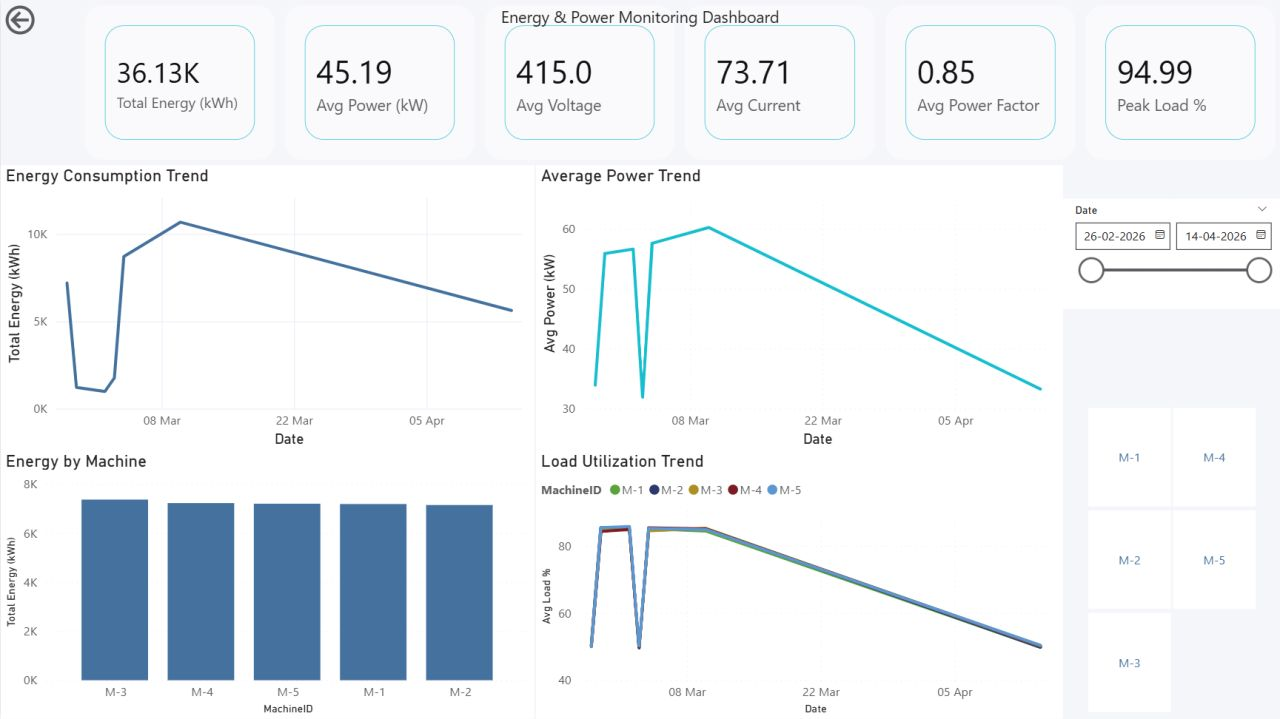

What the dashboard file says about the page in this screenshot:
{"tool":"powerbi","page":{"name":"Energy & Power Monitoring","canvas":[1280,720],"ordinal":0},"visuals":[{"type":"cardVisual","fields":{"Data":["_Measures.Total Energy (kWh)"]},"box":[78.8,0,200,165],"z":0},{"type":"cardVisual","fields":{"Data":["_Measures.Avg Power (kW)"]},"box":[278.8,0,200,165],"z":1000},{"type":"cardVisual","fields":{"Data":["_Measures.Avg Power Factor"]},"box":[880,0,200,165],"z":2000},{"type":"cardVisual","fields":{"Data":["_Measures.Avg Voltage"]},"box":[478.8,0,200,165],"z":3000},{"type":"cardVisual","fields":{"Data":["_Measures.Avg Current"]},"box":[678.8,0,201.2,165],"z":4000},{"type":"lineChart","title":"Energy Consumption Trend","fields":{"Category":["Date_Table.Date"],"Y":["_Measures.Total Energy (kWh)"]},"box":[0,165,533.8,286.2],"z":5000},{"type":"lineChart","title":"Average Power Trend","fields":{"Category":["Date_Table.Date"],"Y":["_Measures.Avg Power (kW)"]},"box":[535,165,527.5,286.2],"z":6000},{"type":"clusteredColumnChart","title":"Energy by Machine","fields":{"Category":["Machine_Dimension.MachineID"],"Y":["_Measures.Total Energy (kWh)"]},"box":[0,451.2,533.8,268.8],"z":7000},{"type":"slicer","fields":{"Values":["Date_Table.Date"]},"box":[1062.5,198.8,217.5,110],"z":8000},{"type":"actionButton","box":[0,0,38.8,40],"z":9000},{"type":"slicer","fields":{"Values":["Machine_Dimension.MachineID"]},"box":[1062.5,401.2,217.5,318.8],"z":10000},{"type":"lineChart","title":"Load Utilization Trend","fields":{"Category":["Date_Table.Date"],"Y":["_Measures.Avg Load %"],"Series":["Machine_Dimension.MachineID"]},"box":[535,451.2,527.5,268.8],"z":11000},{"type":"cardVisual","fields":{"Data":["_Measures.Peak Load %"]},"box":[1080,0,200,165],"z":12000},{"type":"textbox","box":[490.4,0,299.5,31.6],"z":13000}]}

Visuals, with their boxes in screenshot pixels (x1, y1, x2, y2), scaled from the page's 1280x720 canvas onto the 1280x719 screenshot:
cardVisual - _Measures.Total Energy (kWh): 79, 0, 279, 165
cardVisual - _Measures.Avg Power (kW): 279, 0, 479, 165
cardVisual - _Measures.Avg Power Factor: 880, 0, 1080, 165
cardVisual - _Measures.Avg Voltage: 479, 0, 679, 165
cardVisual - _Measures.Avg Current: 679, 0, 880, 165
"Energy Consumption Trend" lineChart: 0, 165, 534, 451
"Average Power Trend" lineChart: 535, 165, 1062, 451
"Energy by Machine" clusteredColumnChart: 0, 451, 534, 718
slicer - Date_Table.Date: 1062, 199, 1279, 308
actionButton: 0, 0, 39, 40
slicer - Machine_Dimension.MachineID: 1062, 401, 1279, 718
"Load Utilization Trend" lineChart: 535, 451, 1062, 718
cardVisual - _Measures.Peak Load %: 1080, 0, 1279, 165
textbox: 490, 0, 790, 32
